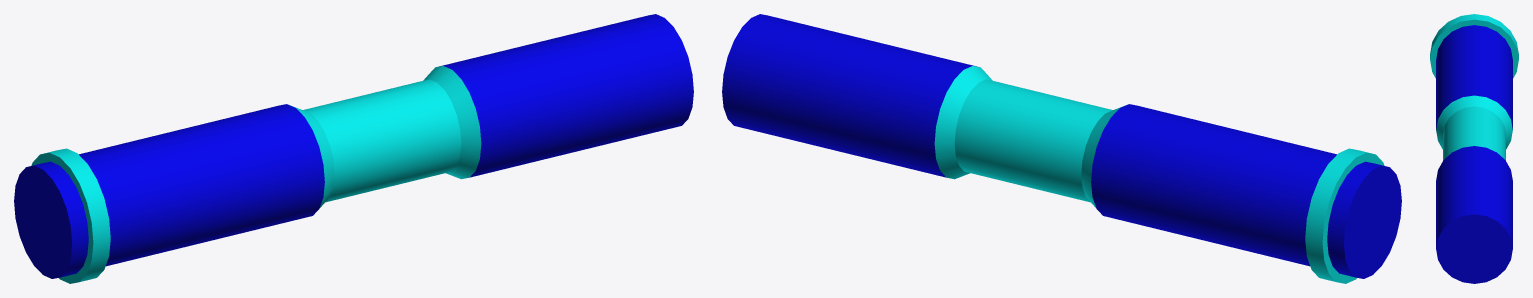
The model's file is CogwheelPipe.fbx.
3 renders of one model, left to right at view 1: azimuth 30°, elevation 25°; view 2: azimuth 150°, elevation 25°; view 3: azimuth 270°, elevation 25°, orthographic. The views are drawn at different scales.
Visible parts, largest first — view 1: Cogwheel_Pipe1; view 2: Cogwheel_Pipe1; view 3: Cogwheel_Pipe1.
Part boxes in pixels (x1,y1,x2,y2): Cogwheel_Pipe1: (14, 14, 693, 283); Cogwheel_Pipe1: (722, 14, 1401, 283); Cogwheel_Pipe1: (1430, 14, 1518, 283).
Size of the model in its own units: 35.81 by 6.71 by 6.71.
